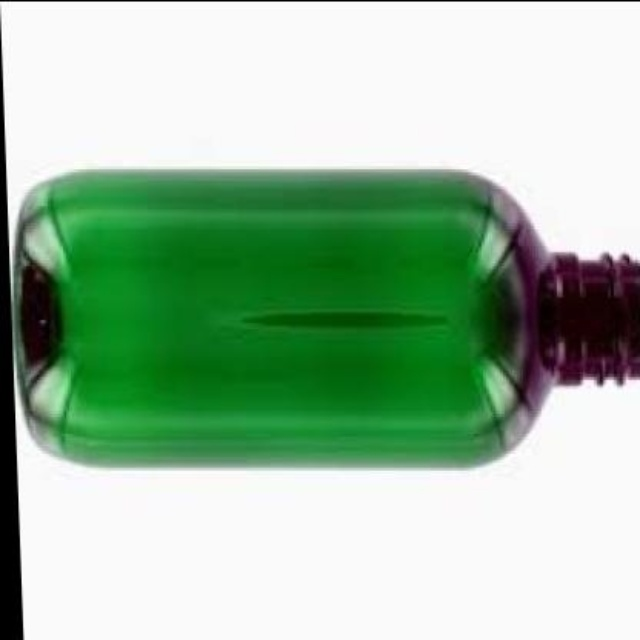trash: (14, 171, 554, 465)
